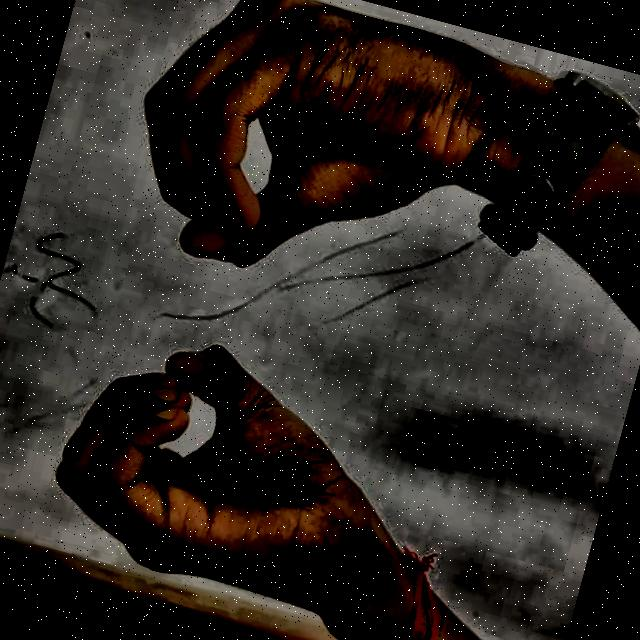Bisharga: (3, 0, 521, 640)
